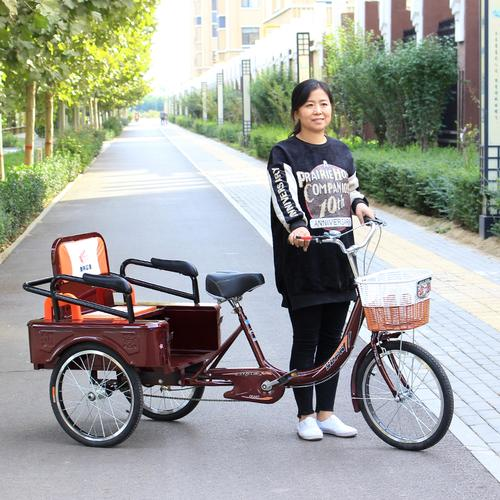only_driver: (19, 72, 488, 452)
